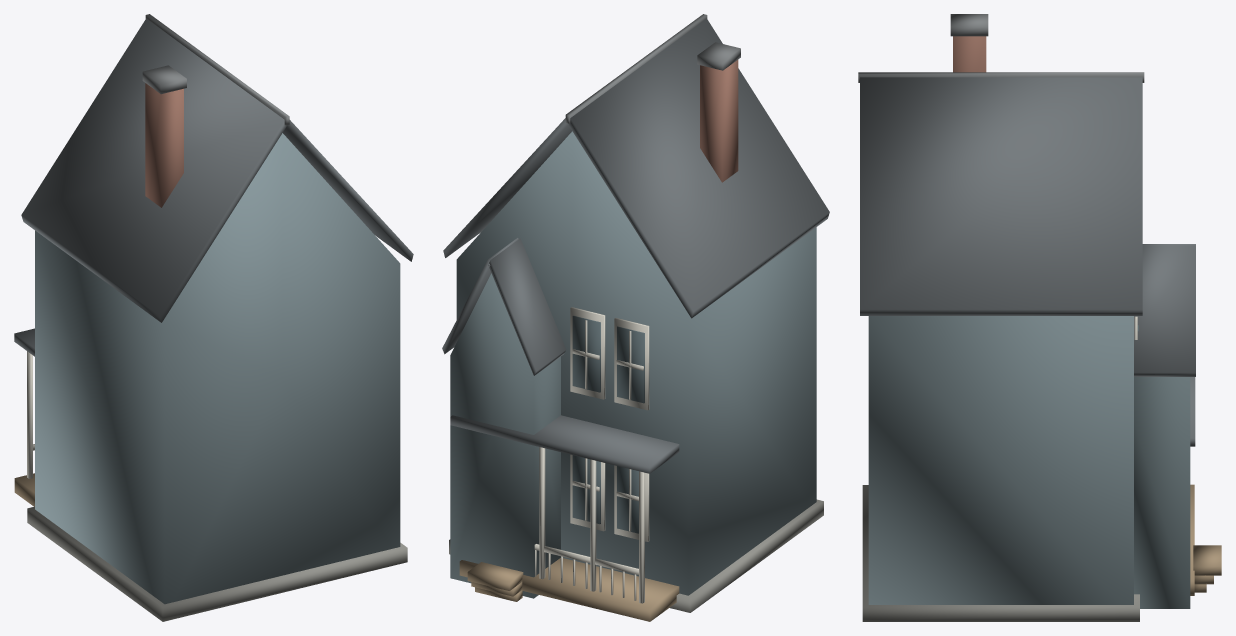
File: hart-farmhouse.glb
3 renders of one model, left to right at view 1: azimuth 30°, elevation 25°; view 2: azimuth 150°, elevation 25°; view 3: azimuth 270°, elevation 25°, orthographic. The views are drawn at different scales.
Visible parts, largest first — view 1: world; view 2: world; view 3: world.
Part boxes in pixels (left/top/right/bottom): world: left=14, top=14, right=413, bottom=621; world: left=442, top=14, right=829, bottom=621; world: left=858, top=14, right=1221, bottom=621.
Size of the model in its own units: 9.5 by 17.7 by 11.5.
